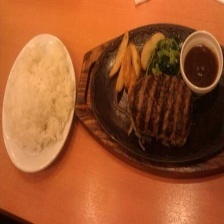rice: (0, 37, 77, 170)
